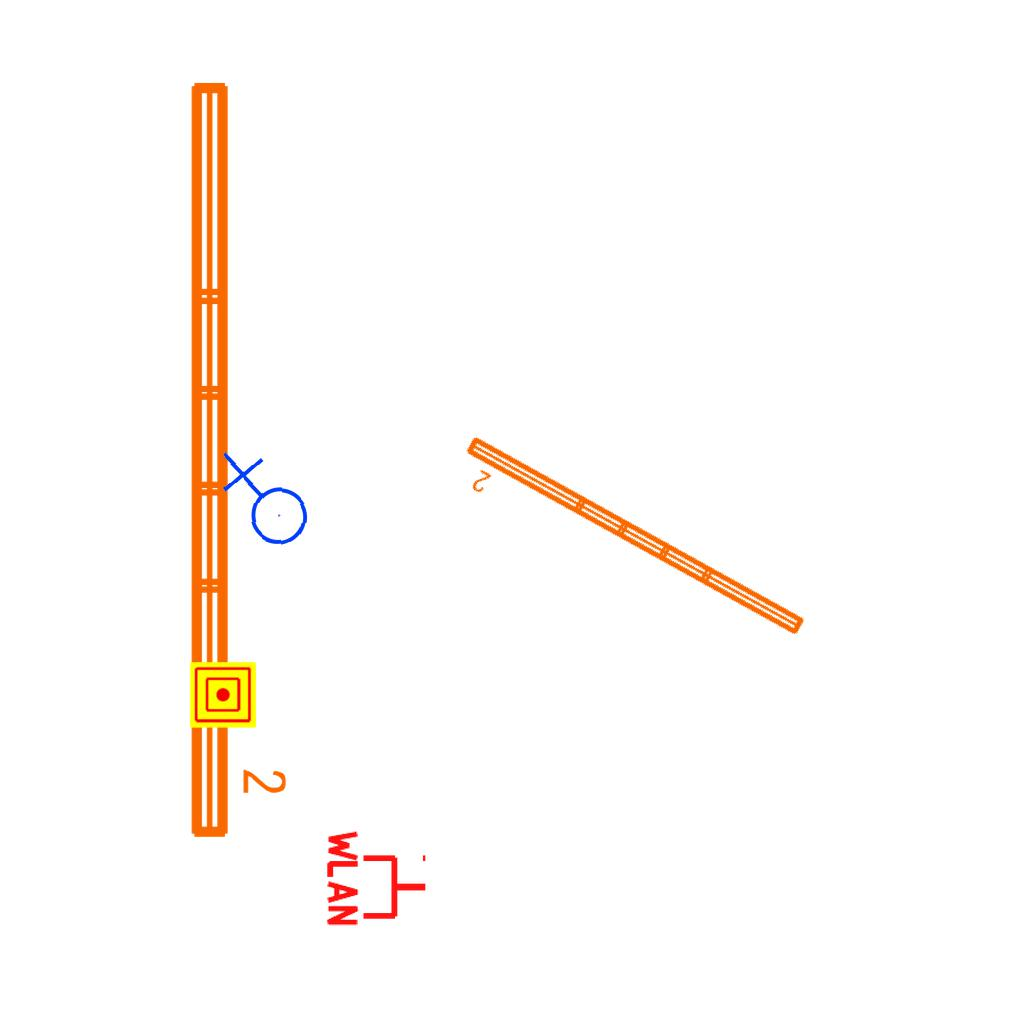Ambulanz_Pendelleuchte_LED: (446, 428, 813, 666), (179, 72, 291, 846)
Elektroanschluss_allgemein_230V_Geraeteanschlussdose_230V: (212, 451, 313, 555)
NAM-Nichtautomatischer_Melder: (190, 662, 256, 728)
WLAN: (325, 826, 430, 930)
